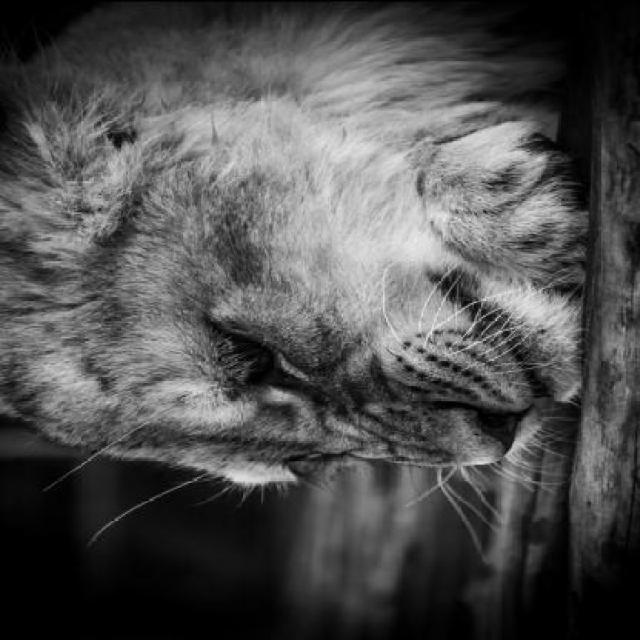Lion: (12, 2, 634, 563)
